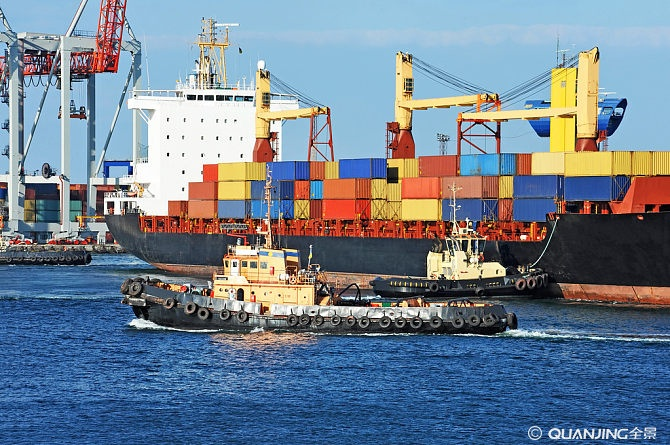Cargoship: (112, 13, 670, 303)
otherboat: (132, 206, 513, 343), (377, 207, 565, 296), (1, 211, 100, 269)
